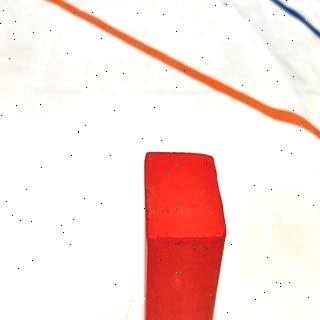redbox: (142, 148, 228, 320)
